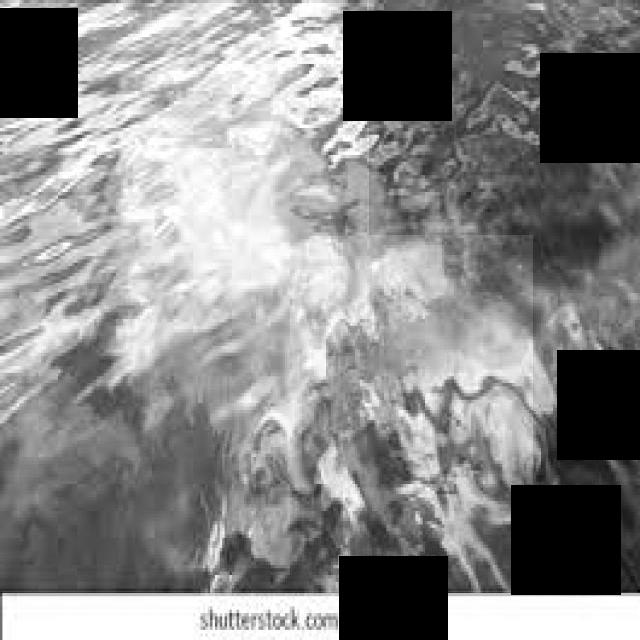oil spill: (0, 236, 533, 592), (0, 3, 369, 285)
